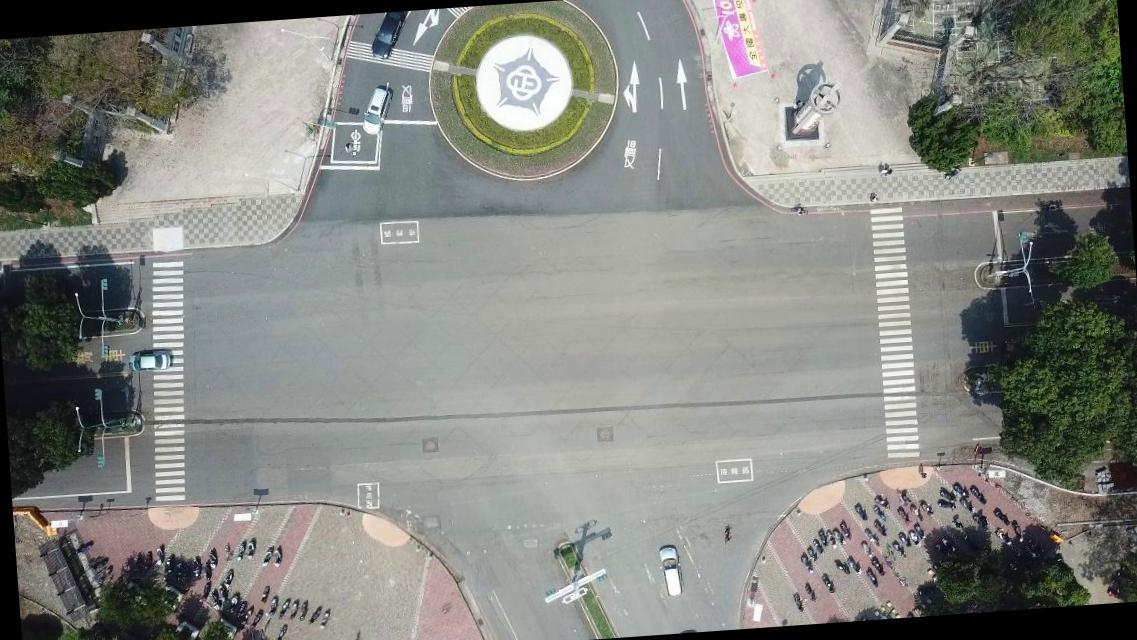vehicle: (366, 14, 409, 62), (360, 85, 396, 137), (658, 543, 684, 597), (126, 348, 172, 373)
